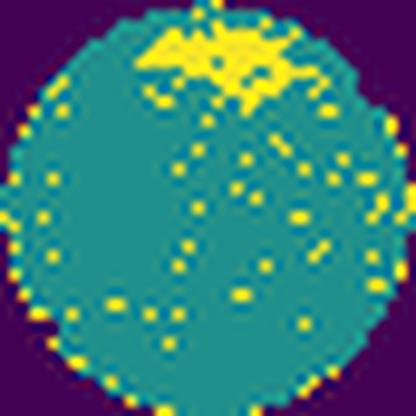Loc: (141, 22, 315, 112)
